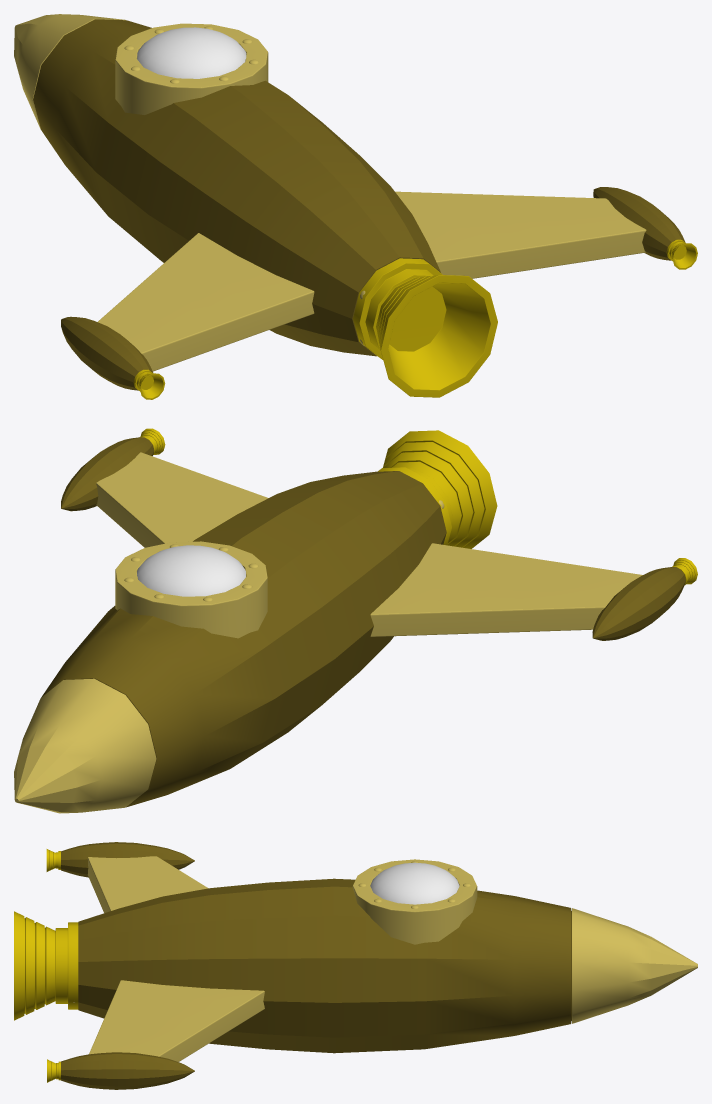
File: Spaceship_PeterPhan.fbx
The picture shows the model from 3 angles, top to bottom: view 1: azimuth 30°, elevation 25°; view 2: azimuth 150°, elevation 25°; view 3: azimuth 270°, elevation 25°; orthographic projection. The views are drawn at different scales.
Visible parts, largest first — view 1: SpaceshipBody_geo_LOD0, Wing_geo_LOD0, Exhaust_geo_LOD0, WindowFrame_geo_LOD0, Glass_geo_LOD0, R_WingTipBase_geo_LOD0, SpaceshipTip_geo_LOD0, L_WingTipBase_geo_LOD0, R_WingTipExhaust_geo_LOD0, L_WingTipExhaust_geo_LOD0; view 2: SpaceshipBody_geo_LOD0, Wing_geo_LOD0, SpaceshipTip_geo_LOD0, Exhaust_geo_LOD0, WindowFrame_geo_LOD0, Glass_geo_LOD0, R_WingTipBase_geo_LOD0, L_WingTipBase_geo_LOD0; view 3: SpaceshipBody_geo_LOD0, Wing_geo_LOD0, SpaceshipTip_geo_LOD0, Exhaust_geo_LOD0, WindowFrame_geo_LOD0, L_WingTipBase_geo_LOD0, Glass_geo_LOD0, R_WingTipBase_geo_LOD0.
Part boxes in pixels (x1=…): SpaceshipBody_geo_LOD0: x1=33, y1=19, x2=440, y2=356; Wing_geo_LOD0: x1=97, y1=191, x2=646, y2=371; Exhaust_geo_LOD0: x1=353, y1=258, x2=497, y2=397; WindowFrame_geo_LOD0: x1=115, y1=23, x2=268, y2=114; Glass_geo_LOD0: x1=137, y1=27, x2=246, y2=78; R_WingTipBase_geo_LOD0: x1=61, y1=316, x2=153, y2=390; SpaceshipTip_geo_LOD0: x1=14, y1=14, x2=125, y2=129; L_WingTipBase_geo_LOD0: x1=593, y1=187, x2=685, y2=260; R_WingTipExhaust_geo_LOD0: x1=133, y1=369, x2=165, y2=399; L_WingTipExhaust_geo_LOD0: x1=666, y1=239, x2=697, y2=269; SpaceshipBody_geo_LOD0: x1=41, y1=471, x2=446, y2=807; Wing_geo_LOD0: x1=96, y1=452, x2=642, y2=636; SpaceshipTip_geo_LOD0: x1=14, y1=678, x2=156, y2=813; Exhaust_geo_LOD0: x1=378, y1=430, x2=497, y2=548; WindowFrame_geo_LOD0: x1=115, y1=541, x2=267, y2=638; Glass_geo_LOD0: x1=137, y1=545, x2=245, y2=596; R_WingTipBase_geo_LOD0: x1=592, y1=567, x2=685, y2=640; L_WingTipBase_geo_LOD0: x1=61, y1=437, x2=154, y2=511; SpaceshipBody_geo_LOD0: x1=78, y1=878, x2=571, y2=1053; Wing_geo_LOD0: x1=87, y1=856, x2=264, y2=1061; SpaceshipTip_geo_LOD0: x1=572, y1=908, x2=697, y2=1023; Exhaust_geo_LOD0: x1=14, y1=911, x2=78, y2=1020; WindowFrame_geo_LOD0: x1=352, y1=859, x2=477, y2=944; L_WingTipBase_geo_LOD0: x1=61, y1=1052, x2=194, y2=1089; Glass_geo_LOD0: x1=370, y1=862, x2=459, y2=904; R_WingTipBase_geo_LOD0: x1=61, y1=842, x2=194, y2=877.
Bounding box in the file's own units: 0.0208 × 0.00753 × 0.0266.
